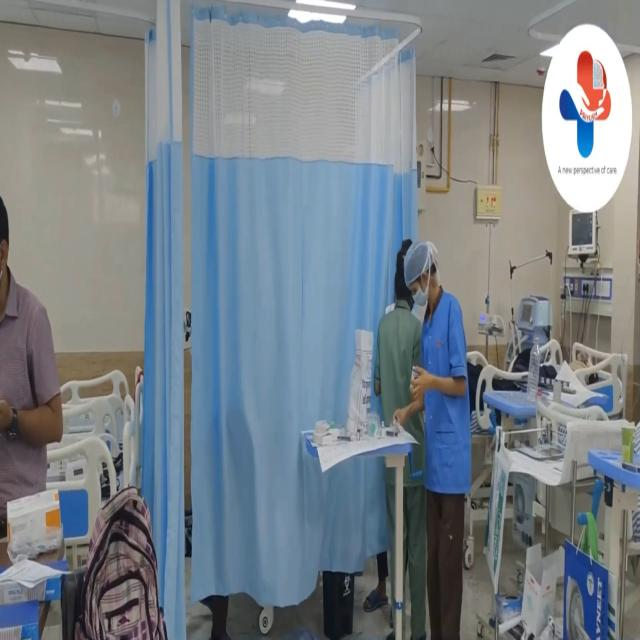Doctor: (0, 189, 70, 491)
Nurse: (406, 234, 487, 640), (384, 223, 430, 640), (560, 331, 608, 401)
